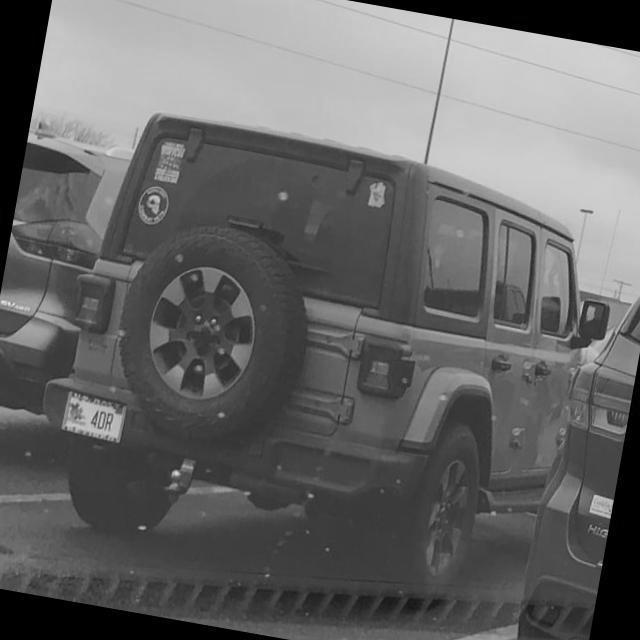LicensePlate: (58, 388, 126, 444)
